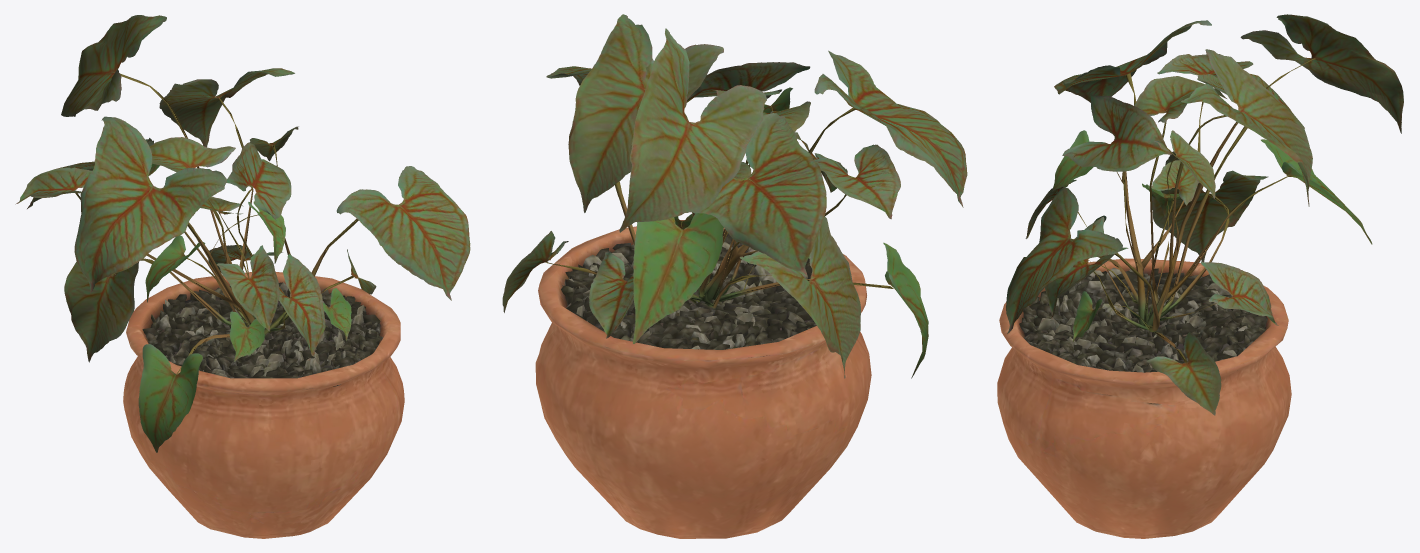
Rendered from indoor-plant.glb.
The picture shows the model from 3 angles, left to right: view 1: azimuth 30°, elevation 25°; view 2: azimuth 150°, elevation 25°; view 3: azimuth 270°, elevation 25°; orthographic projection. The views are drawn at different scales.
Visible parts, largest first — view 1: leaves, pot; view 2: leaves, pot; view 3: pot, leaves.
Boxes of the visible parts, x1,y1,x2,y2 form: leaves: [15, 15, 470, 452]; pot: [123, 271, 404, 538]; leaves: [502, 14, 967, 378]; pot: [535, 220, 871, 538]; pot: [997, 258, 1291, 538]; leaves: [1006, 14, 1403, 415].
Bounding box in the file's own units: 0.7012 × 0.8397 × 0.6561.
2 materials, 2 textured.
